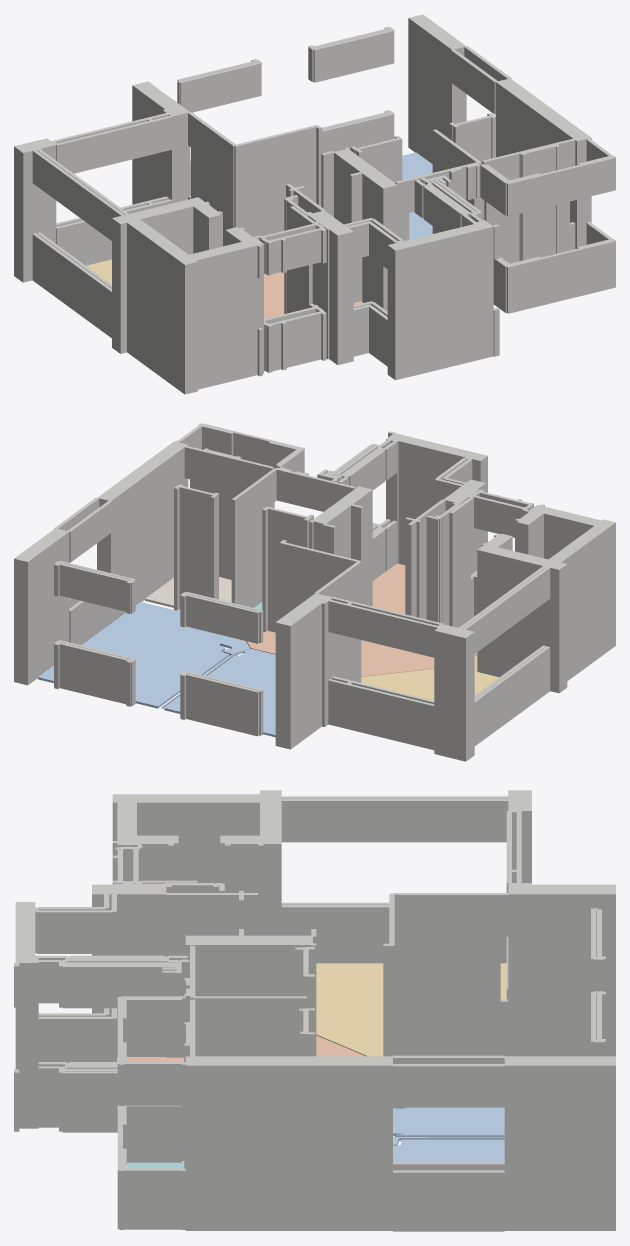
3 views of the same model, one above another, from view 1: azimuth 30°, elevation 25°; view 2: azimuth 150°, elevation 25°; view 3: azimuth 270°, elevation 25° (orthographic). The views are drawn at different scales.
Parts seen in each view (by area): view 1: walls, room:bedroom:0, room:kitchen:6; view 2: walls, room:bedroom:0, room:bedroom:7, room:kitchen:6, room:living:5, room:kitchen:4, room:other:8; view 3: walls, room:living:5, room:bedroom:7, room:bedroom:0.
Boxes of the visible parts, x1=… form: walls: x1=14, y1=14, x2=615, y2=394; room:bedroom:0: x1=402, y1=152, x2=432, y2=239; room:kitchen:6: x1=264, y1=272, x2=362, y2=318; walls: x1=14, y1=423, x2=615, y2=761; room:bedroom:0: x1=38, y1=602, x2=250, y2=708; room:bedroom:7: x1=164, y1=649, x2=275, y2=737; room:kitchen:6: x1=246, y1=631, x2=477, y2=676; room:living:5: x1=361, y1=655, x2=498, y2=700; room:kitchen:4: x1=372, y1=563, x2=405, y2=614; room:other:8: x1=145, y1=577, x2=231, y2=607; walls: x1=14, y1=790, x2=615, y2=1231; room:living:5: x1=316, y1=963, x2=506, y2=1056; room:bedroom:7: x1=393, y1=1107, x2=504, y2=1136; room:bedroom:0: x1=393, y1=1137, x2=504, y2=1161.
Size of the model in its own units: 10.01 by 2.8 by 9.23.
